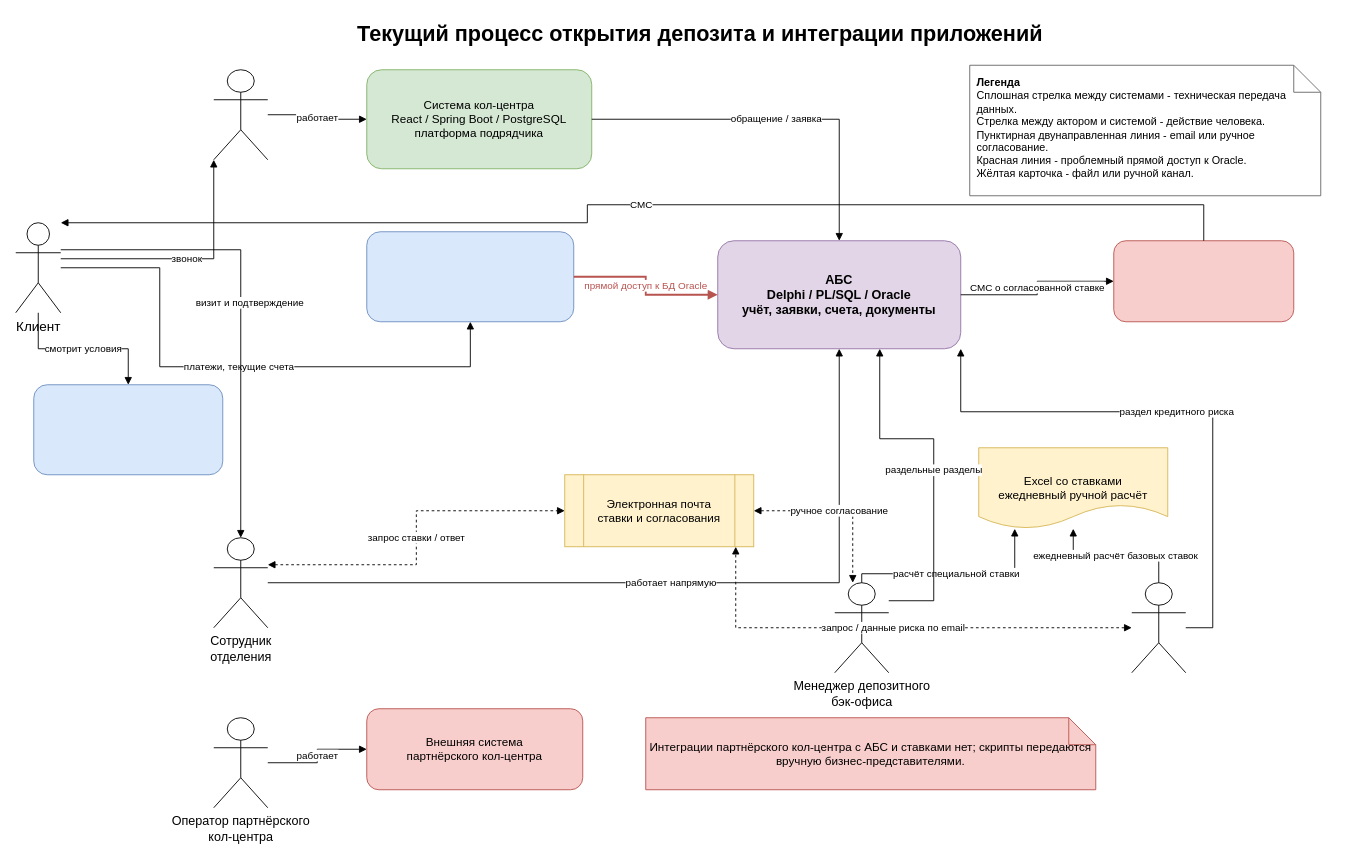
Some shapes in this 1346 by 860 pixel diagram are drawn without their labels. The centre of each missing label's shape, as x and y in pixels:
"Интернет-банк ASP.NET MVC 4.5 / MS SQL платежи и текущие счета" belongs at point (470, 276).
"Оператор банковского кол-центра" belongs at point (240, 114).
"Сайт PHP / React только маркетинговая информация" belongs at point (128, 429).
"СМС-шлюз телеком-оператора" belongs at point (1203, 281).
"Сотрудник кредитного бэк-офиса" belongs at point (1158, 627).
